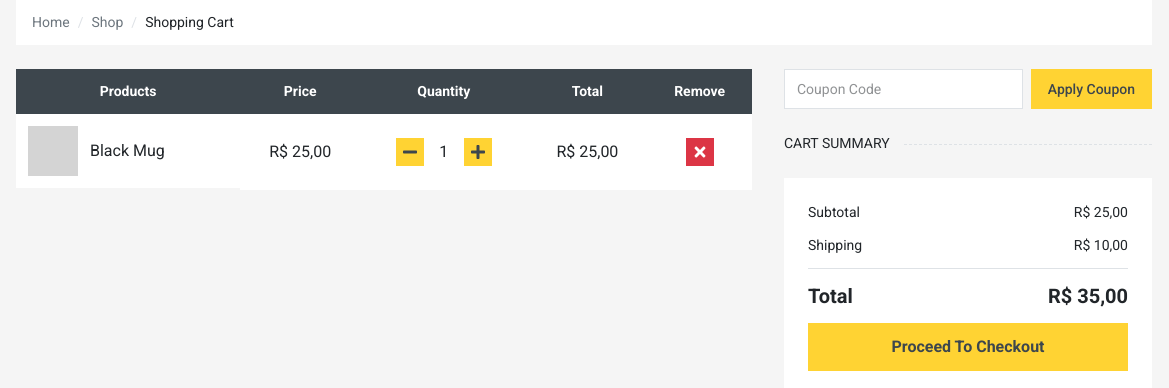
Test: Cart › removes the line when the quantity goes down to zero
Expected: the text "Black Mug" is shown, [16,114,240,192]
Click the button named "Decrease quantity": coordinates (410, 152) [396,138,424,166]
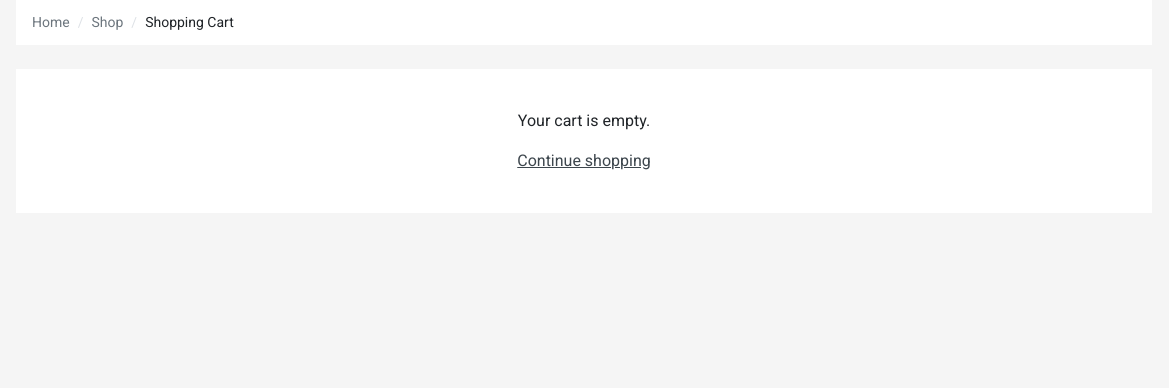
Expected: the text "Your cart is empty." is shown, [518,109,650,133]
